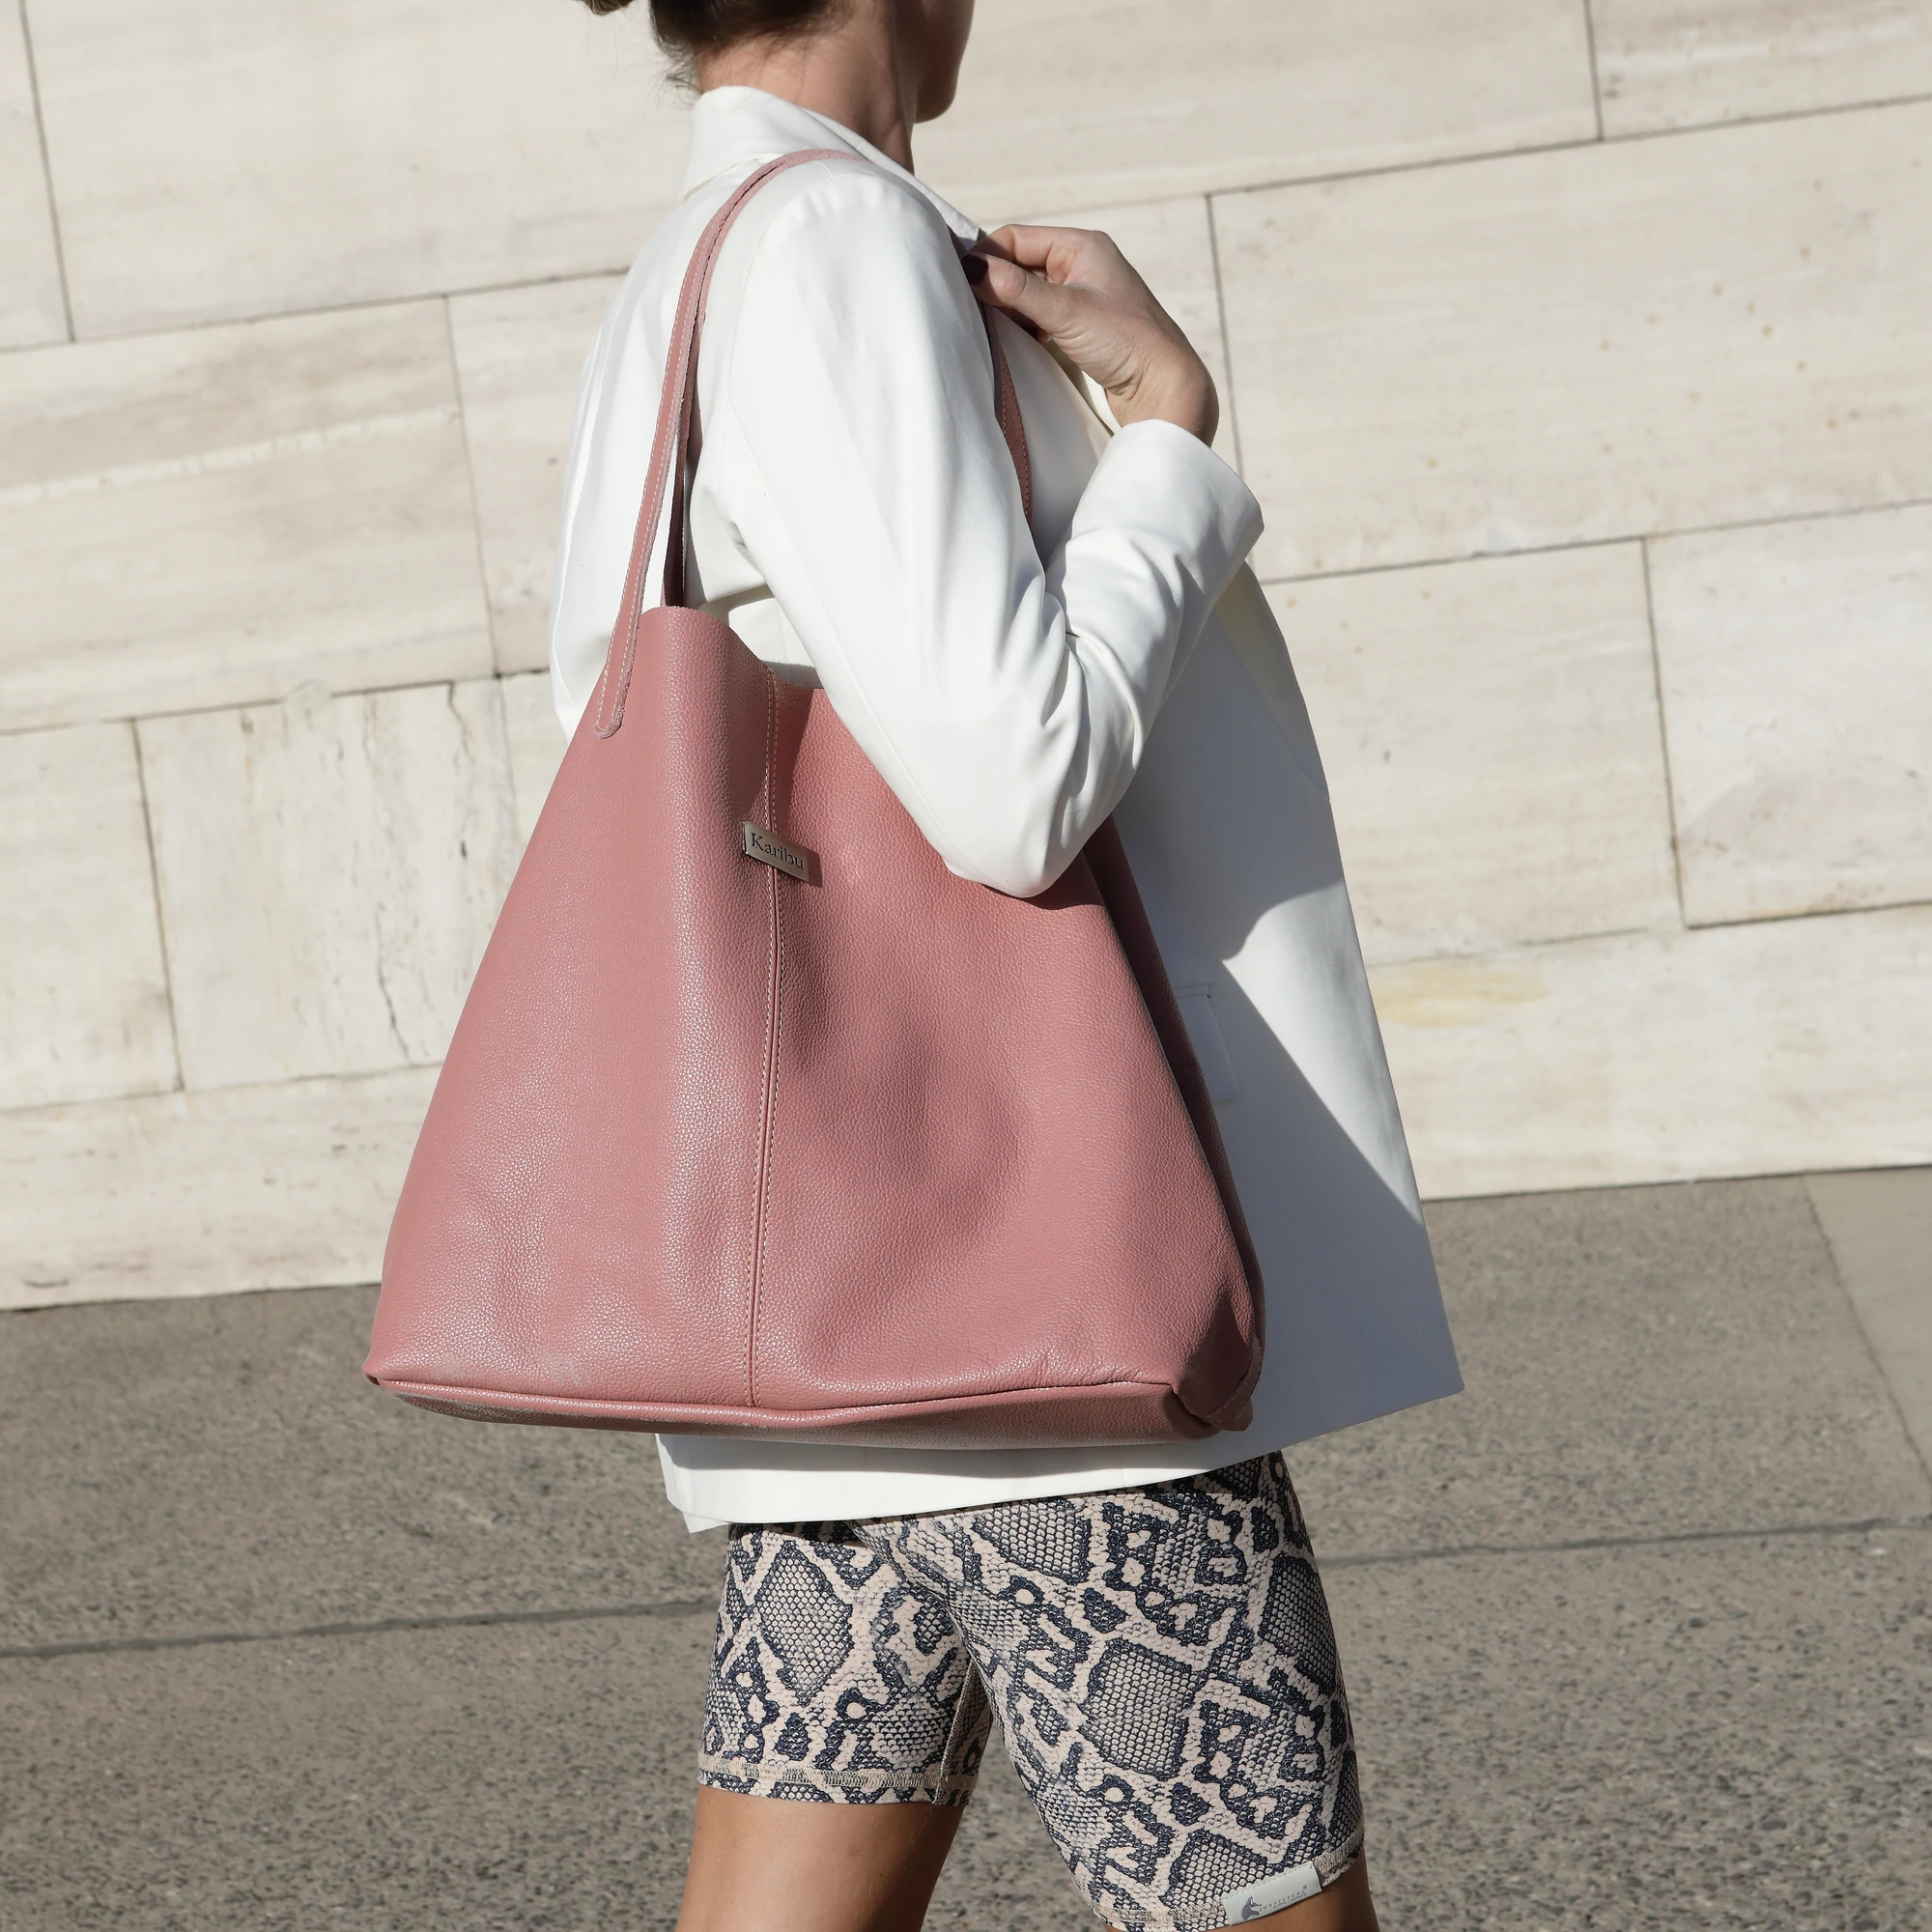cartera: (356, 628, 1274, 1430)
cuero: (356, 642, 1283, 1426)
